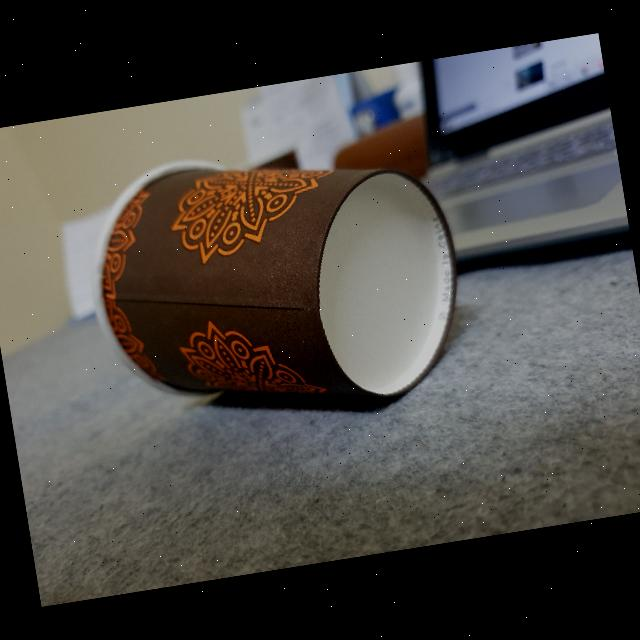trash: (69, 113, 497, 454)
